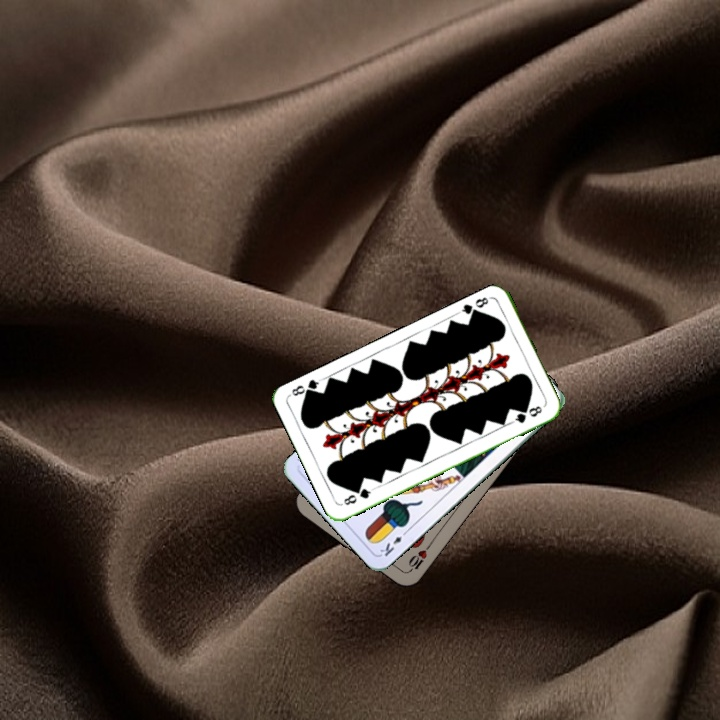EK: (376, 526, 411, 559)
G8: (455, 293, 494, 321), (339, 484, 376, 508)
H10: (403, 541, 433, 575)
